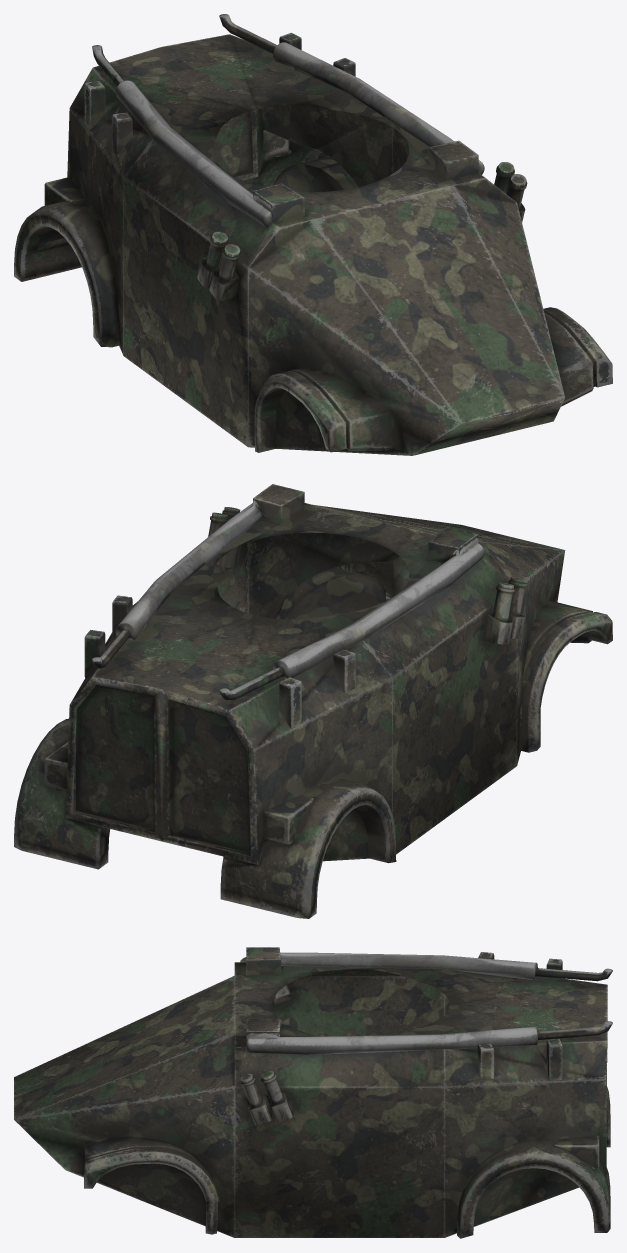
3 renders of one model, top to bottom at view 1: azimuth 30°, elevation 25°; view 2: azimuth 150°, elevation 25°; view 3: azimuth 270°, elevation 25°, orthographic. The views are drawn at different scales.
Visible parts, largest first — view 1: mv3da_low:Mesh; view 2: mv3da_low:Mesh; view 3: mv3da_low:Mesh.
Part boxes in pixels (x1,y1,x2,y2): mv3da_low:Mesh: (14, 14, 612, 455); mv3da_low:Mesh: (14, 484, 612, 918); mv3da_low:Mesh: (14, 947, 612, 1238).
Size of the model in its own units: 8.24 by 5.9 by 16.59.
Materials: 1 (1 with a texture image).
